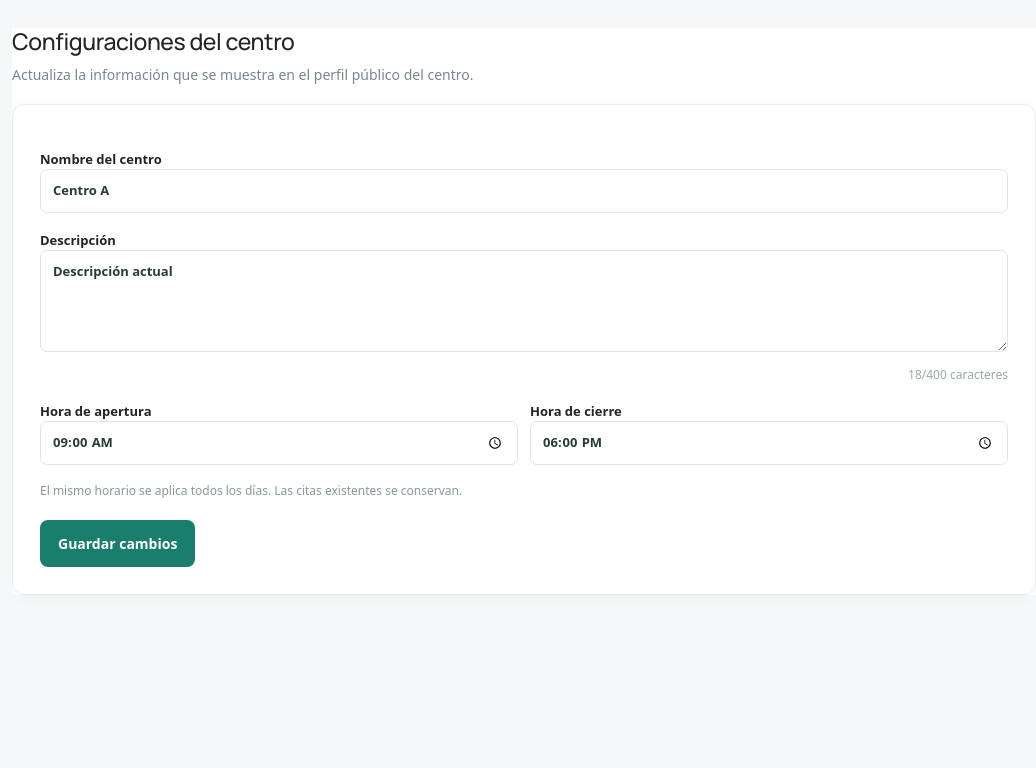
Test: rejects reversed or equal hours before saving
Replace the text in the time field labelled "Hora de cierre" with "09:00": (769, 443) [530,421,1008,465]
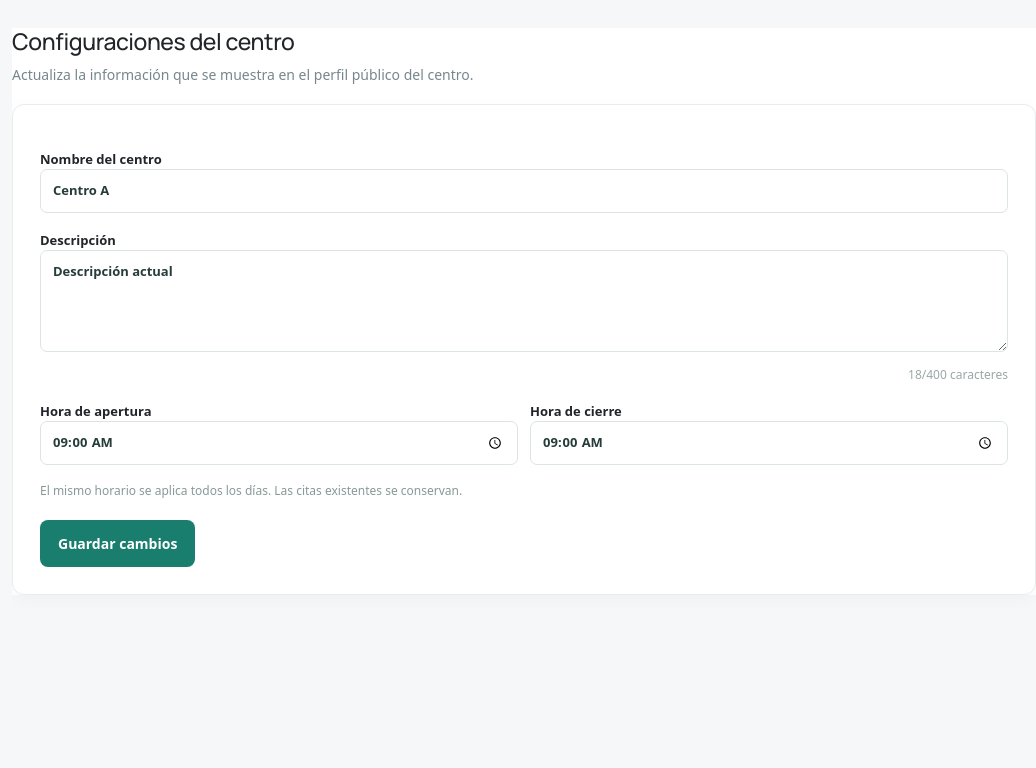
Click the button "Guardar cambios": (118, 543) [40,520,195,567]
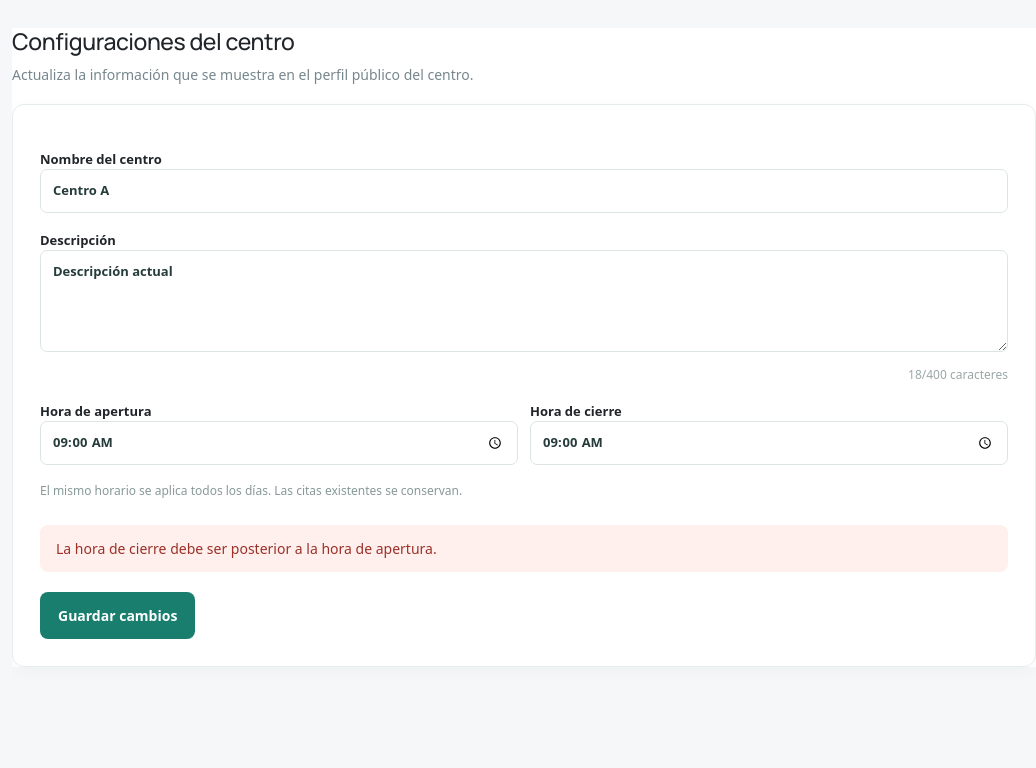
Expected: the message shows "posterior", [56,539,437,558]
